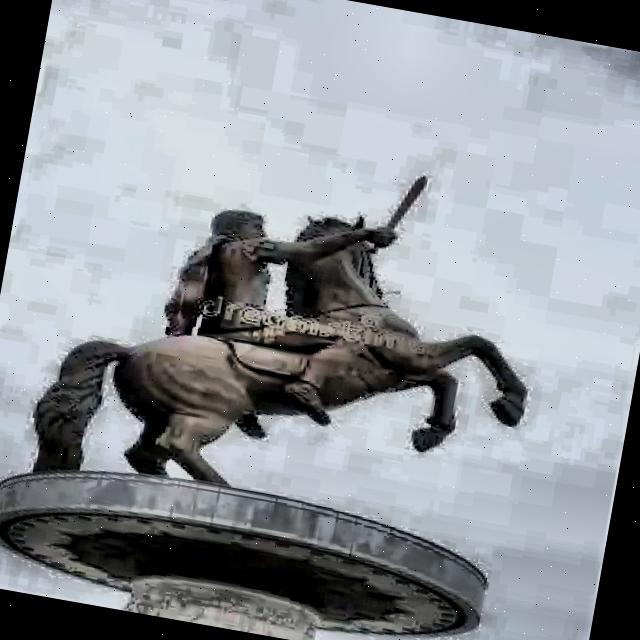alexander the great monument: (0, 99, 577, 640)
